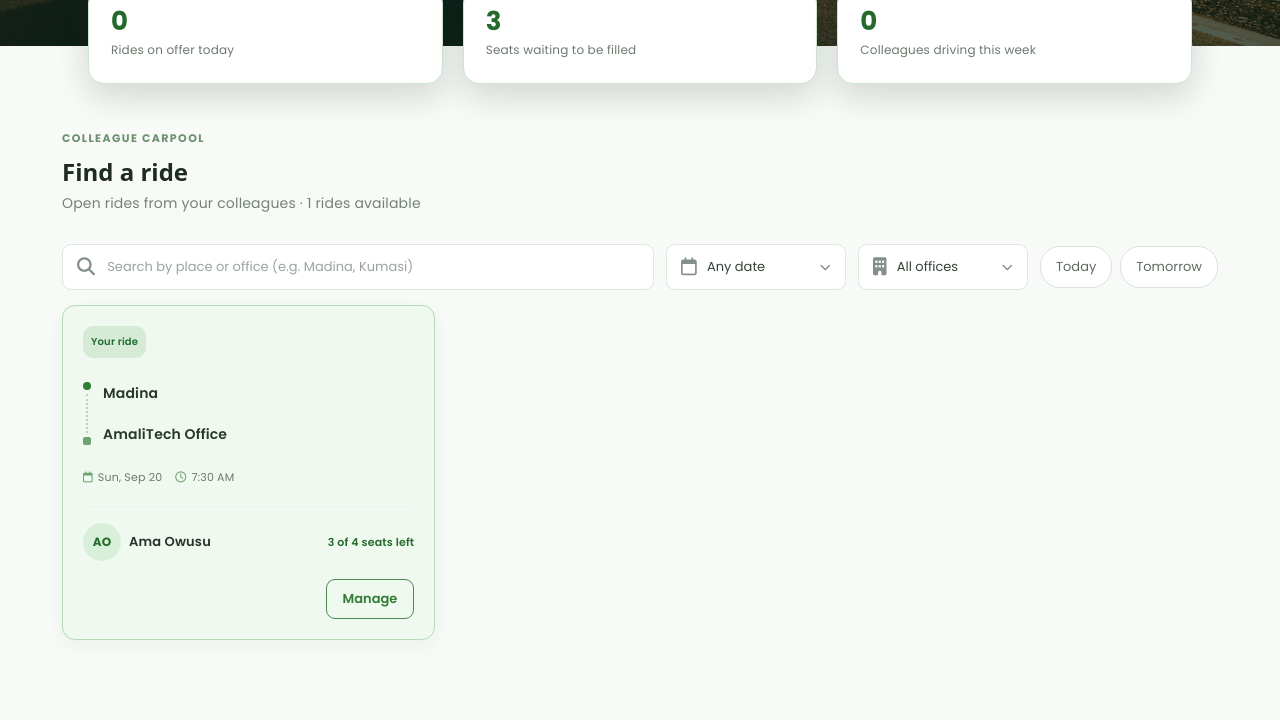
Test: App › opens the join-requests panel for a ride the driver manages
The image size is (1280, 720).
(page scrolled)
Click the button "Manage": click(370, 599) x1=326 y1=579 x2=414 y2=619
(page scrolled)
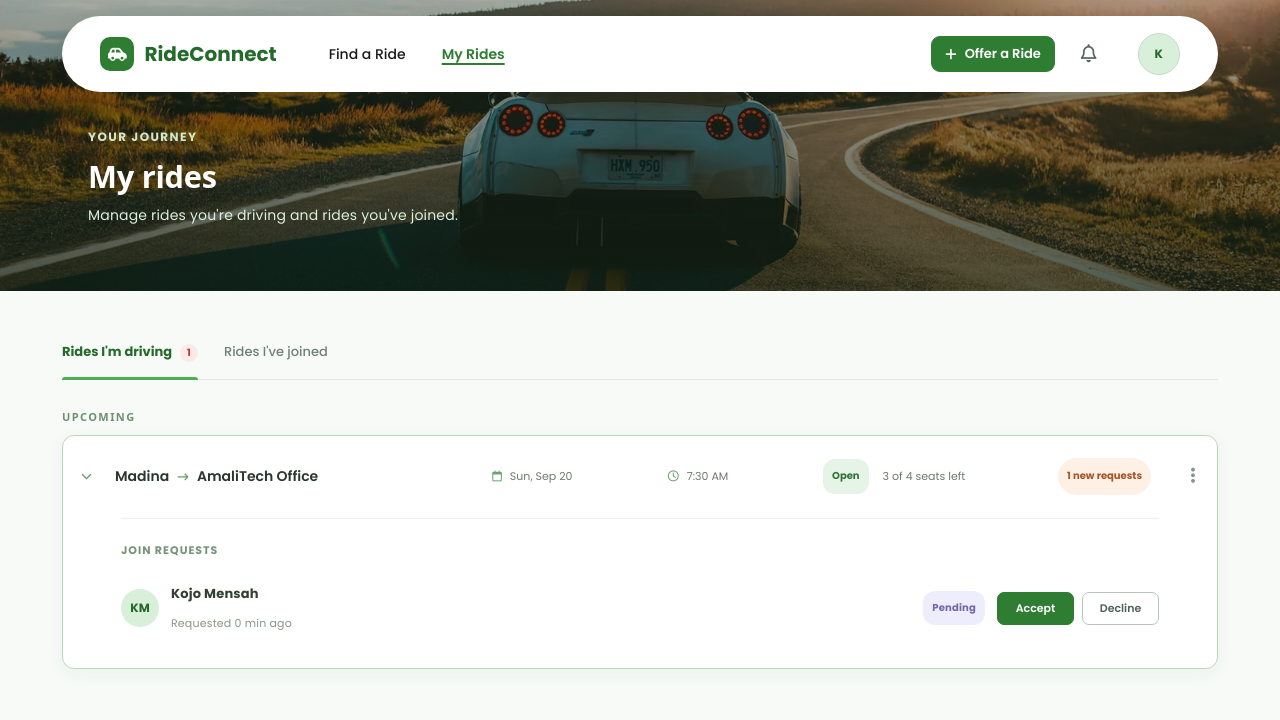
Check: the heading "Join requests" is shown, box x1=121 y1=542 x2=218 y2=558
